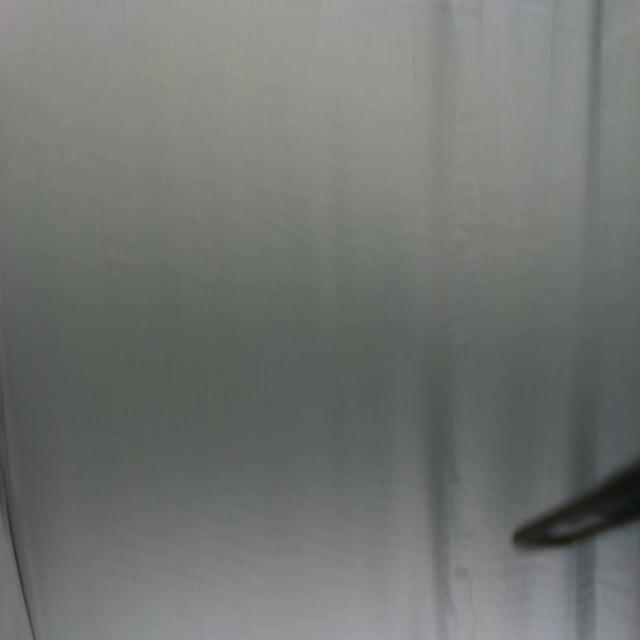crease: (0, 449, 40, 640)
